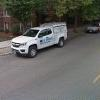Car: (5, 17, 70, 56)
